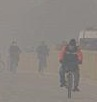person: (57, 38, 85, 100), (34, 40, 51, 75), (8, 41, 22, 74)
